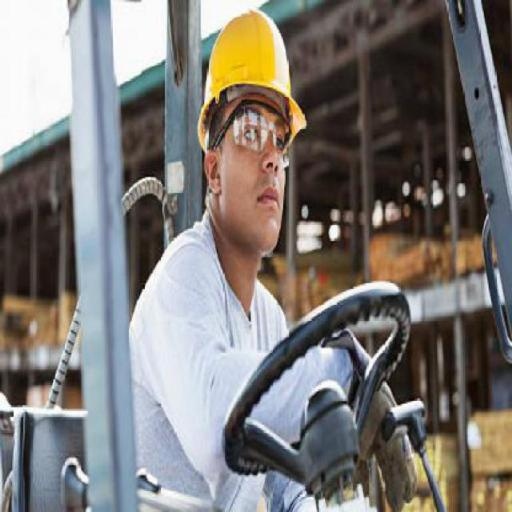glass: (206, 90, 294, 164)
hardhat: (190, 6, 317, 152)
person: (110, 4, 376, 501)
